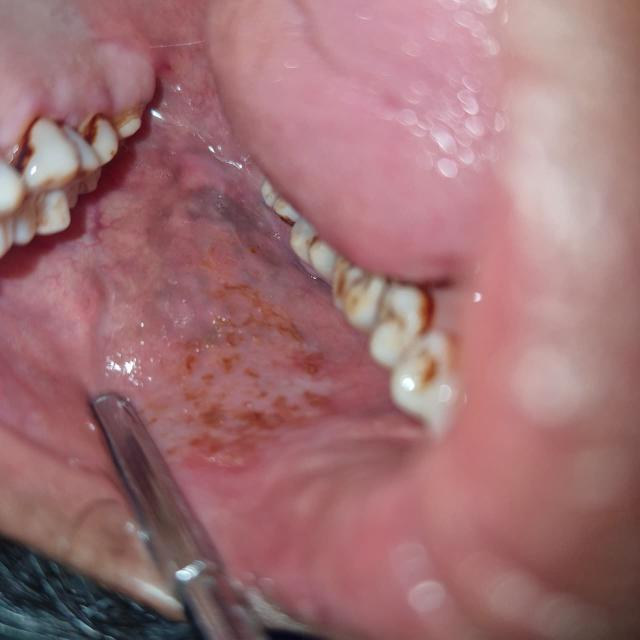leukoplakia-like-detection: (0, 115, 384, 468), (0, 0, 163, 153)
processing_area: (0, 0, 507, 478)
